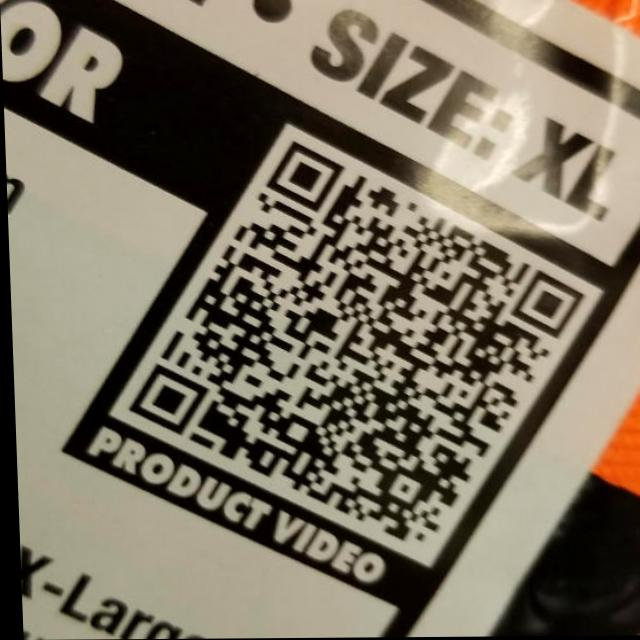QR_CODE: (101, 123, 605, 557)
